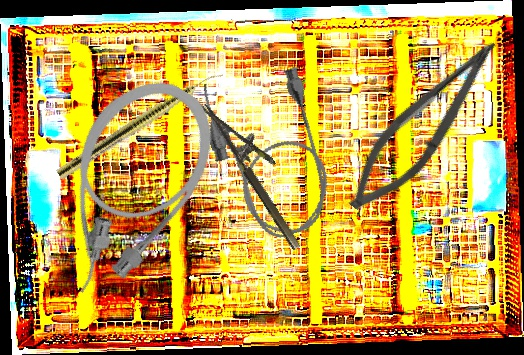Cannula: (14, 59, 237, 315), (193, 56, 344, 250)
Handpiece: (55, 64, 225, 183)
Micro Scissor: (335, 21, 510, 228)
Needle Holder: (200, 88, 321, 252)
